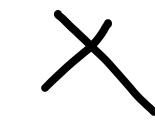mult: (50, 8, 155, 117)
